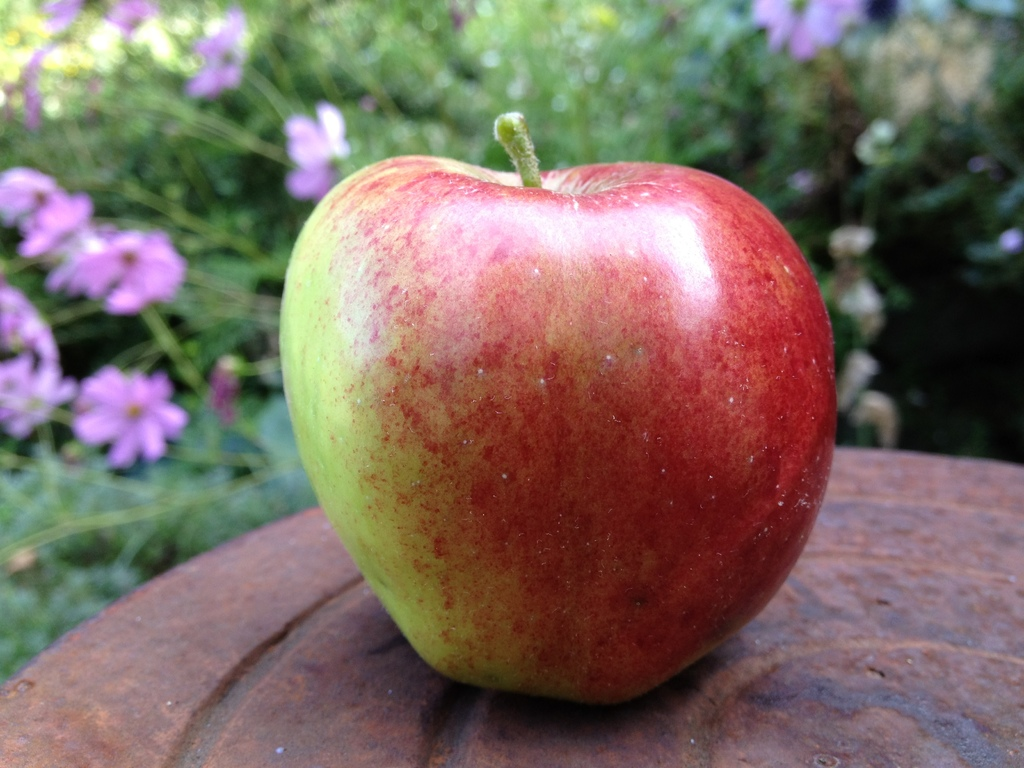Apple: (279, 107, 839, 707)
